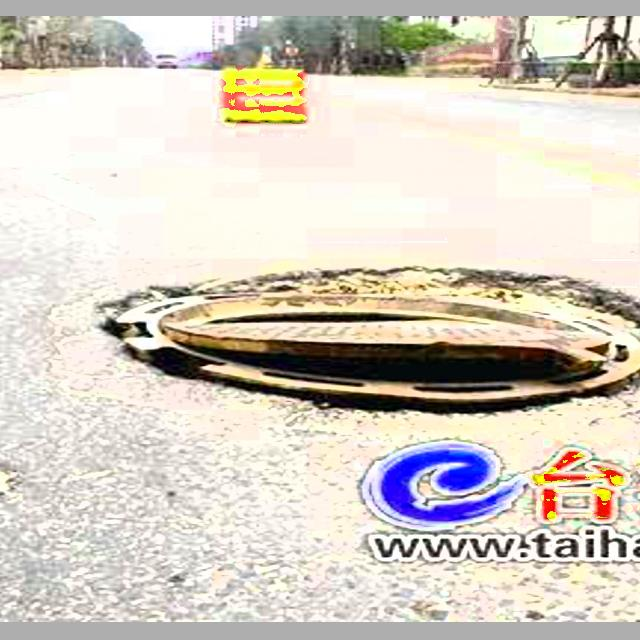circle: (0, 247, 640, 447)
